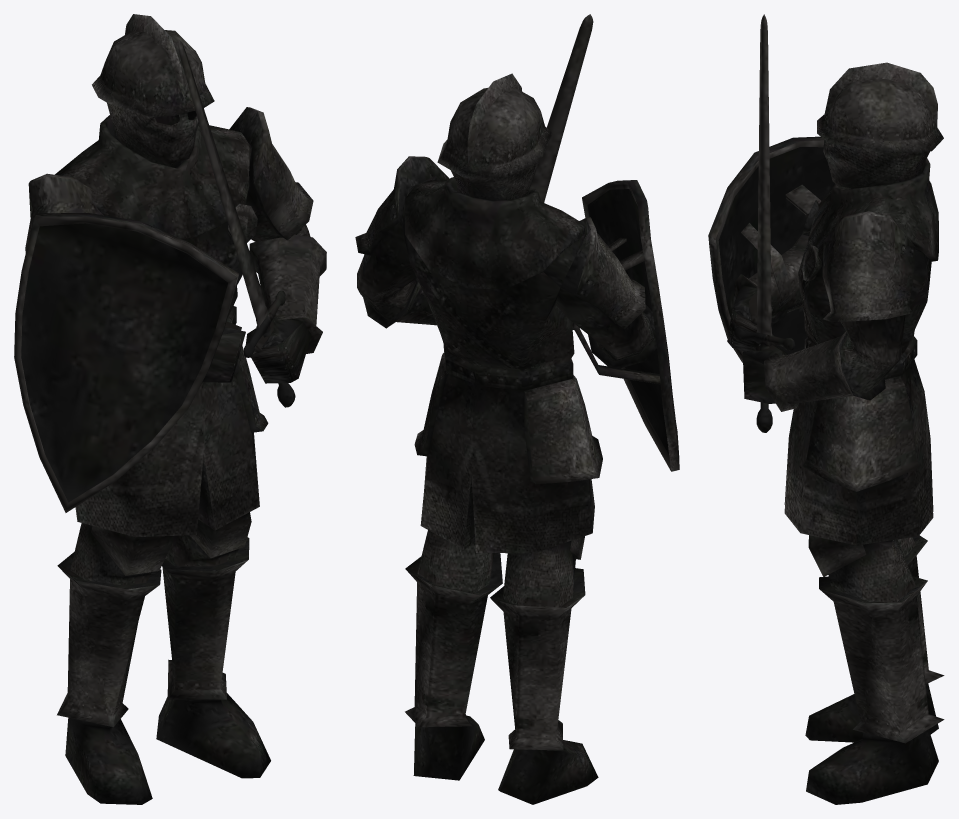
Rendered from KM_VOB_STATUE_01.glb.
3 views of the same model, side by side, from view 1: azimuth 30°, elevation 25°; view 2: azimuth 150°, elevation 25°; view 3: azimuth 270°, elevation 25° (orthographic). The views are drawn at different scales.
Visible parts, largest first — view 1: Mesh; view 2: Mesh; view 3: Mesh.
Part boxes in pixels (bbox=[...]): Mesh: bbox=[14, 14, 326, 804]; Mesh: bbox=[355, 14, 679, 804]; Mesh: bbox=[708, 14, 944, 804].
Bounding box in the file's own units: 2.16 × 5.04 × 1.48.
2 materials, 2 textured.
